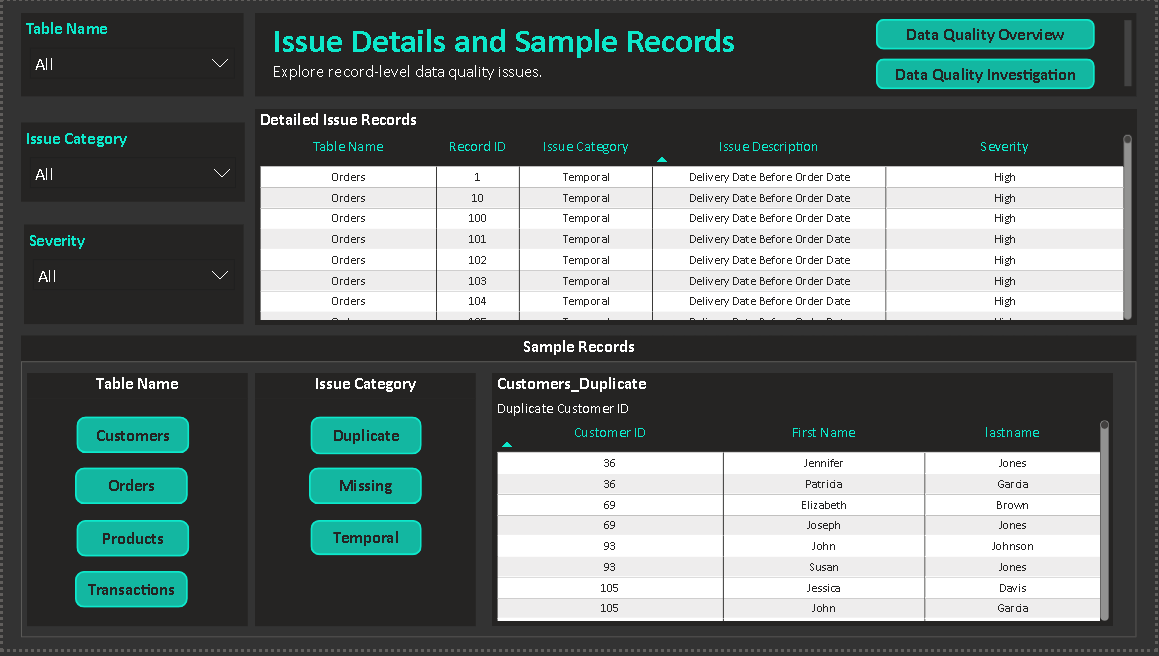

What the dashboard file says about the page in this screenshot:
{"tool":"powerbi","page":{"name":"Issue Details & Sample Records","canvas":[1280,720],"ordinal":2},"visuals":[{"type":"shape","title":"Sample Records","box":[19.5,372.5,1239.4,335.1],"z":0},{"type":"shape","title":"Issue Category","box":[279.8,413.1,245.6,281.4],"z":1000},{"type":"textbox","box":[279.8,13,979.2,92.7],"z":2000},{"type":"tableEx","title":"Detailed Issue Records","fields":{"Values":["public vw_issue_audit.tablename","public vw_issue_audit.recordid","public vw_issue_audit.issuecategory","public vw_issue_audit.issuedescription","public vw_issue_audit.severity"]},"box":[279.8,120.4,979.2,239.1],"z":3000},{"type":"tableEx","title":"Customers_Duplicate","fields":{"Values":["public vw_customer_duplicate_samples.customerid","public vw_customer_duplicate_samples.firstname","public vw_customer_duplicate_samples.lastname"]},"box":[544,413.1,690,280],"z":14000},{"type":"shape","title":"Table Name","box":[26,413.1,245.6,281.4],"z":15000},{"type":"actionButton","title":"BtnCustomersTemporal","box":[341.6,577.4,123.6,39],"z":28000},{"type":"actionButton","title":"BtnCustomersMissing","box":[339.9,518.9,125.2,40.7],"z":29000},{"type":"actionButton","title":"BtnCustomersDuplicate","box":[341.6,461.9,123.6,42.3],"z":30000},{"type":"actionButton","title":"BtnTransactions","box":[79.7,632.7,125.2,40.7],"z":31000},{"type":"actionButton","title":"BtnOrders","box":[79.7,518.9,125.2,40.7],"z":32000},{"type":"actionButton","title":"BtnProducts","box":[81.3,577.4,125.2,40.7],"z":33000},{"type":"actionButton","title":"BtnCustomers","box":[81.3,461.9,125.2,40.7],"z":34000},{"type":"slicer","title":"Table Name","fields":{"Values":["public vw_issue_audit.tablename"]},"box":[19.5,13,247.2,92.7],"z":35000},{"type":"slicer","title":"Issue Category","fields":{"Values":["public vw_issue_audit.issuecategory"]},"box":[19.5,135,248.9,87.8],"z":36000},{"type":"slicer","title":"Severity","fields":{"Values":["public vw_issue_audit.severity"]},"box":[22.8,248.9,244,110.6],"z":37000},{"type":"pageNavigator","box":[969.4,19.5,244,79.7],"z":38000}]}

Visuals, with their boxes in screenshot pixels (x1, y1, x2, y2), scaled from the page's 1280x720 canvas onto the 1159x656 screenshot:
"Sample Records" shape: (x1=18, y1=339, x2=1140, y2=645)
"Issue Category" shape: (x1=253, y1=376, x2=476, y2=633)
textbox: (x1=253, y1=12, x2=1140, y2=96)
"Detailed Issue Records" tableEx: (x1=253, y1=110, x2=1140, y2=328)
"Customers_Duplicate" tableEx: (x1=493, y1=376, x2=1117, y2=631)
"Table Name" shape: (x1=24, y1=376, x2=246, y2=633)
"BtnCustomersTemporal" actionButton: (x1=309, y1=526, x2=421, y2=562)
"BtnCustomersMissing" actionButton: (x1=308, y1=473, x2=421, y2=510)
"BtnCustomersDuplicate" actionButton: (x1=309, y1=421, x2=421, y2=459)
"BtnTransactions" actionButton: (x1=72, y1=576, x2=186, y2=614)
"BtnOrders" actionButton: (x1=72, y1=473, x2=186, y2=510)
"BtnProducts" actionButton: (x1=74, y1=526, x2=187, y2=563)
"BtnCustomers" actionButton: (x1=74, y1=421, x2=187, y2=458)
"Table Name" slicer: (x1=18, y1=12, x2=241, y2=96)
"Issue Category" slicer: (x1=18, y1=123, x2=243, y2=203)
"Severity" slicer: (x1=21, y1=227, x2=242, y2=328)
pageNavigator: (x1=878, y1=18, x2=1099, y2=90)
